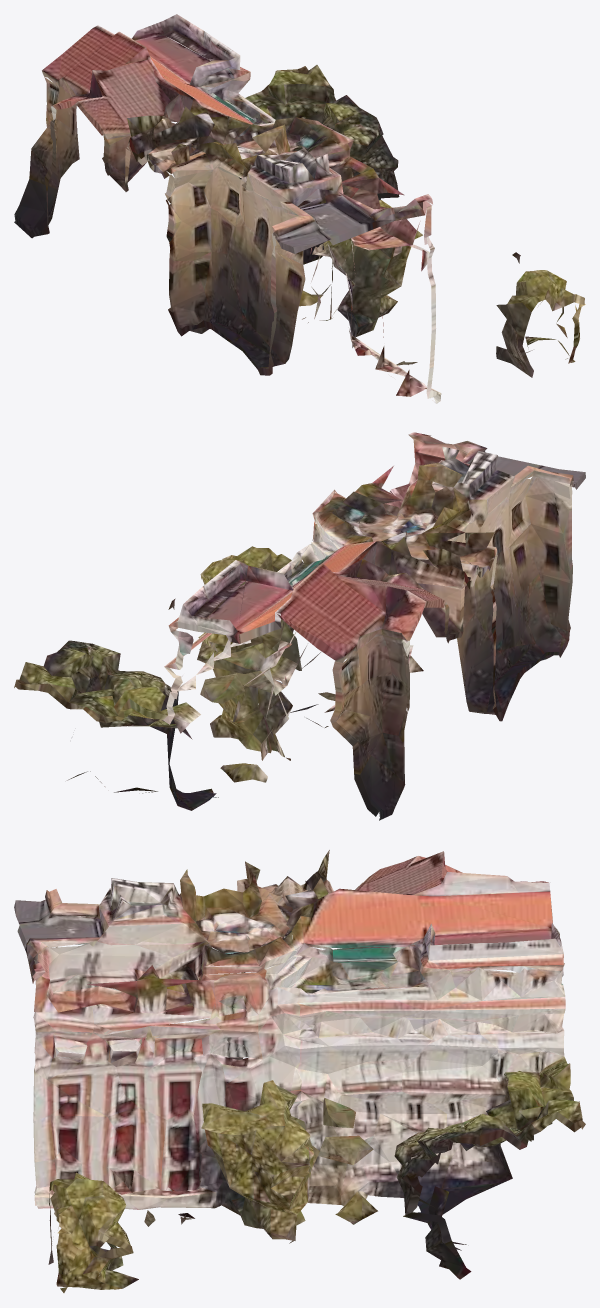
3 renders of one model, top to bottom at view 1: azimuth 30°, elevation 25°; view 2: azimuth 150°, elevation 25°; view 3: azimuth 270°, elevation 25°, orthographic. The views are drawn at different scales.
Parts seen in each view (by area): view 1: Mesh_0; view 2: Mesh_0; view 3: Mesh_0.
Part boxes in pixels (bbox=[...]): Mesh_0: bbox=[14, 14, 585, 403]; Mesh_0: bbox=[14, 432, 585, 820]; Mesh_0: bbox=[14, 850, 585, 1292].
Bounding box in the file's own units: 33.29 × 22.59 × 41.39.
1 material, 1 textured.
